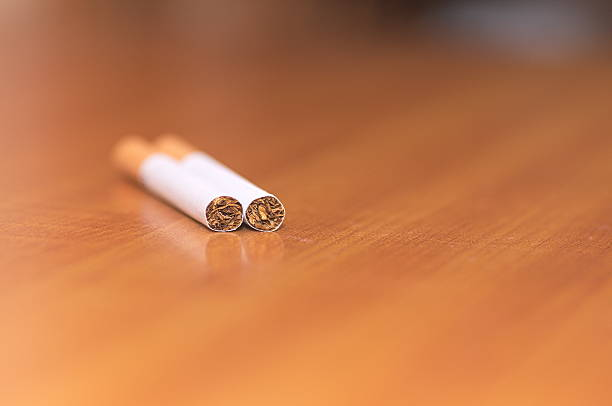cigarette: (111, 137, 243, 236), (155, 135, 287, 233)
